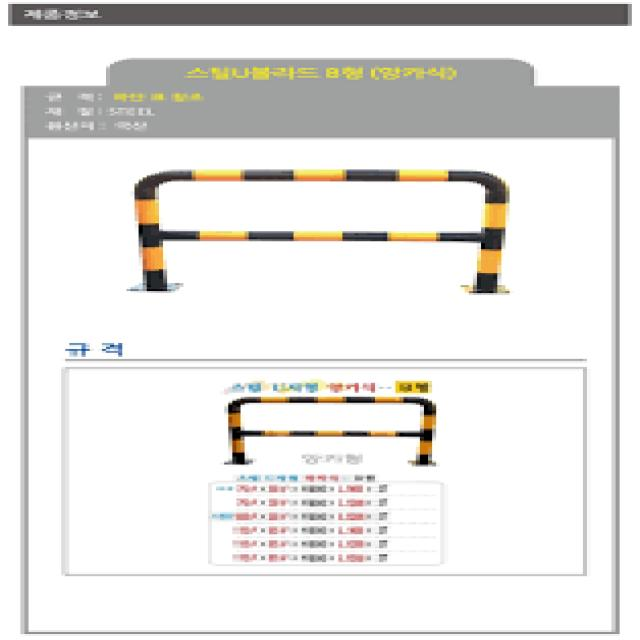bollard: (113, 152, 544, 303), (213, 391, 445, 469)
